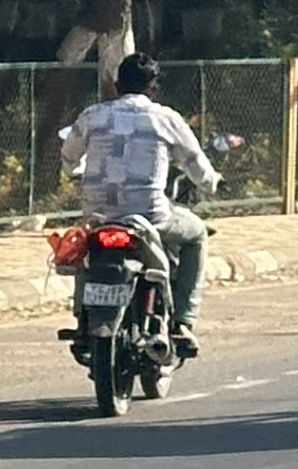BikeWithRider: (41, 34, 249, 419)
NoHelmet: (107, 48, 166, 108)
